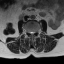CCS_stenosis: (31, 29, 32, 38)
LFS_stenosis: (34, 28, 36, 34)
LLS_normal: (32, 29, 34, 36)
RFS_normal: (28, 29, 29, 35)
RLS_normal: (29, 29, 31, 35)
